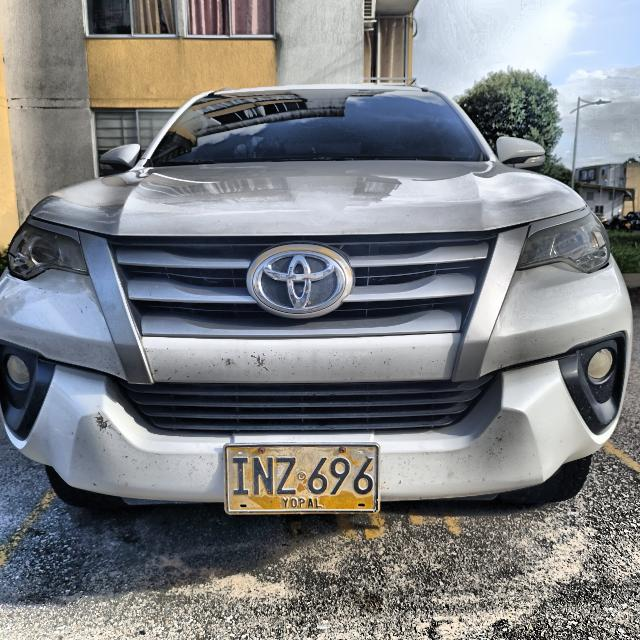plate: (225, 444, 378, 512)
